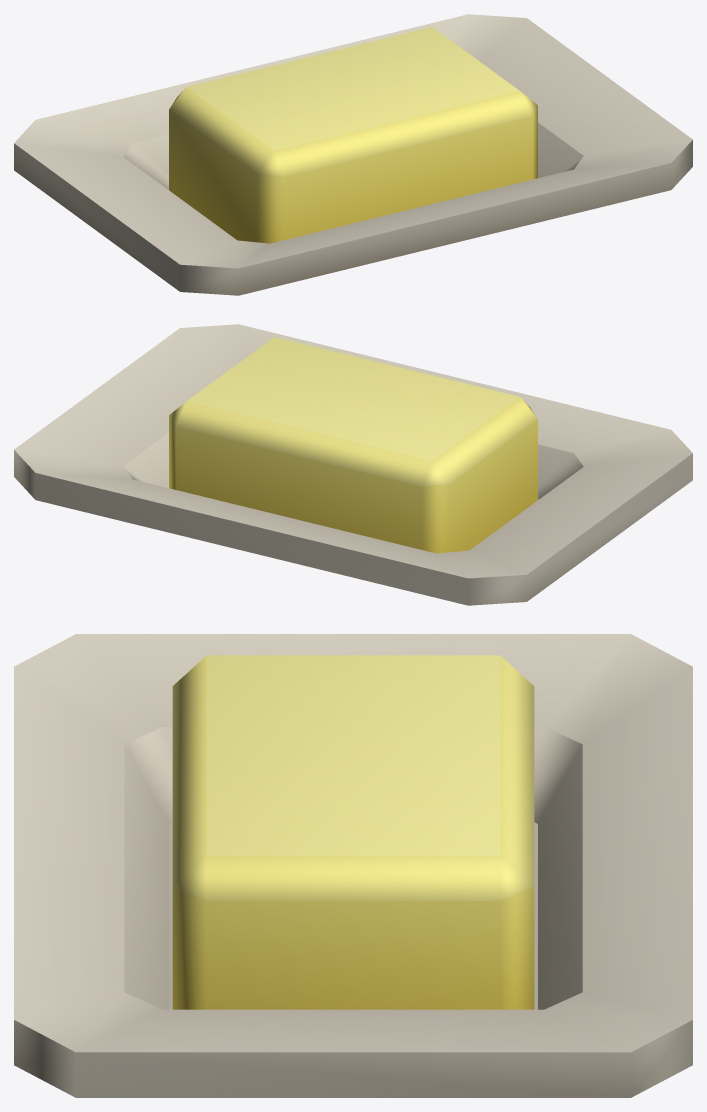
Rendered from butter.fbx.
3 renders of one model, top to bottom at view 1: azimuth 30°, elevation 25°; view 2: azimuth 150°, elevation 25°; view 3: azimuth 270°, elevation 25°, orthographic. The views are drawn at different scales.
Parts seen in each view (by area): view 1: butter; view 2: butter; view 3: butter.
Part boxes in pixels (left/top/right/bottom): butter: left=14, top=14, right=692, bottom=295; butter: left=14, top=324, right=692, bottom=605; butter: left=14, top=634, right=692, bottom=1097.
Size of the model in its own units: 47.94 by 10.21 by 32.88.
